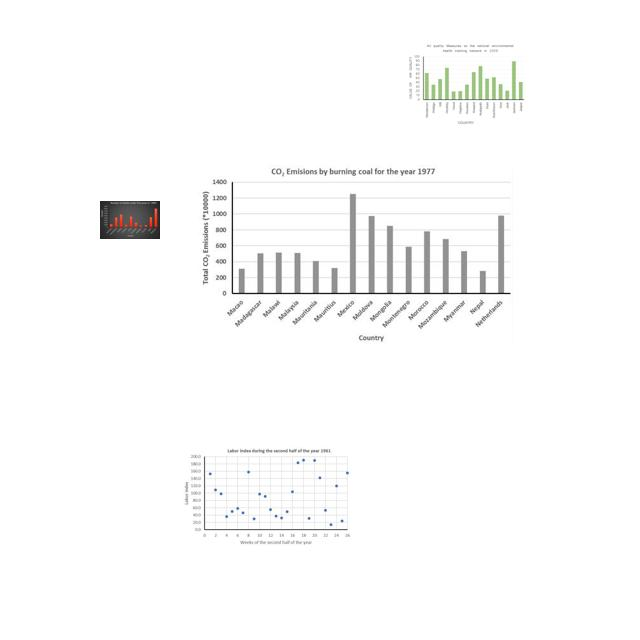Graph: (198, 165, 513, 345), (183, 447, 352, 546), (406, 41, 527, 126), (100, 201, 160, 239)
